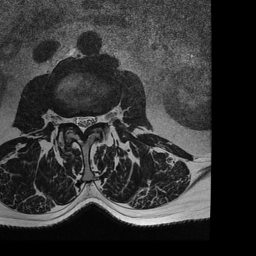CCS_normal: (79, 109, 87, 137)
LFS_normal: (95, 107, 103, 129)
LLS_normal: (87, 108, 95, 131)
RFS_stenosis: (63, 107, 71, 131)
RLS_normal: (71, 108, 79, 132)
